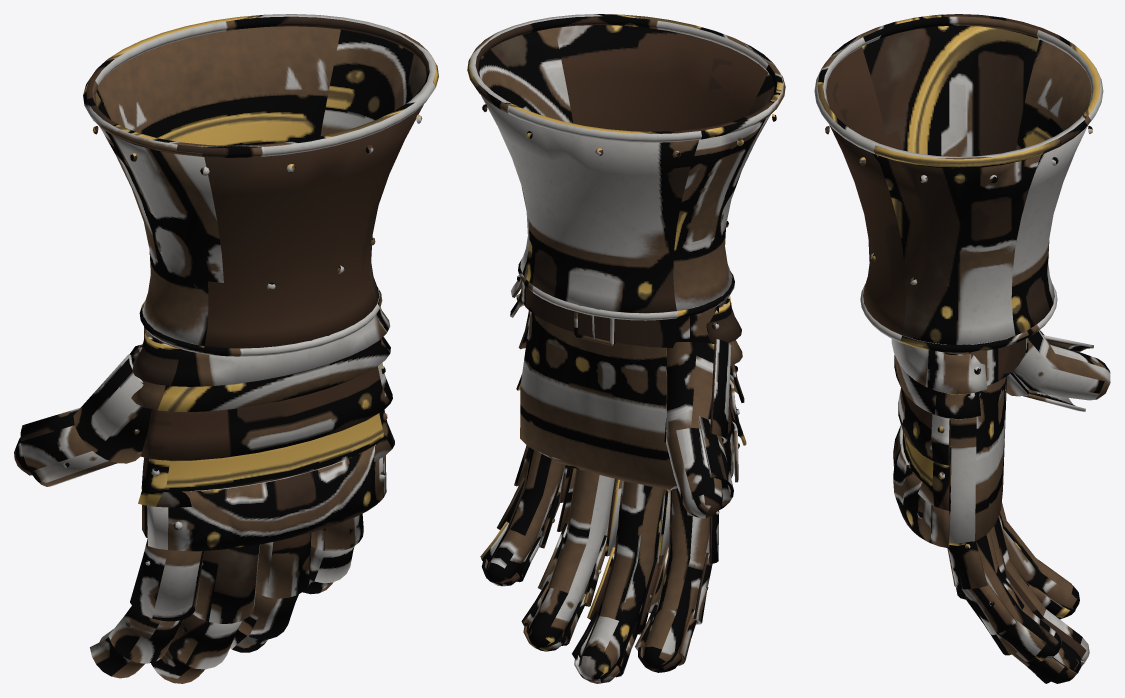
File: SM_EagleGauntlets_R_ROD1.fbx
3 renders of one model, left to right at view 1: azimuth 30°, elevation 25°; view 2: azimuth 150°, elevation 25°; view 3: azimuth 270°, elevation 25°, orthographic. The views are drawn at different scales.
Parts seen in each view (by area): view 1: SM_EagleGauntlets_R_ROD1; view 2: SM_EagleGauntlets_R_ROD1; view 3: SM_EagleGauntlets_R_ROD1.
Part boxes in pixels (x1,y1,x2,y2): SM_EagleGauntlets_R_ROD1: [14, 14, 438, 683]; SM_EagleGauntlets_R_ROD1: [467, 14, 785, 683]; SM_EagleGauntlets_R_ROD1: [814, 14, 1110, 683].
Bounding box in the file's own units: 0.1516 × 0.2701 × 0.1217.
